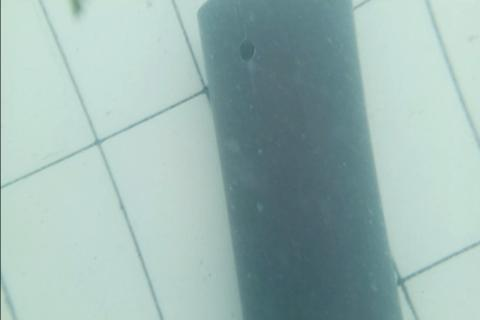kebocoran: (237, 38, 255, 63)
